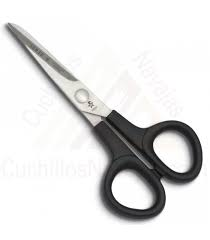tihiras: (3, 20, 204, 222)
